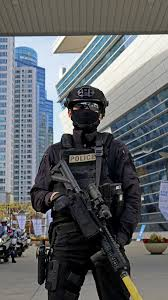gun: (48, 157, 143, 299)
